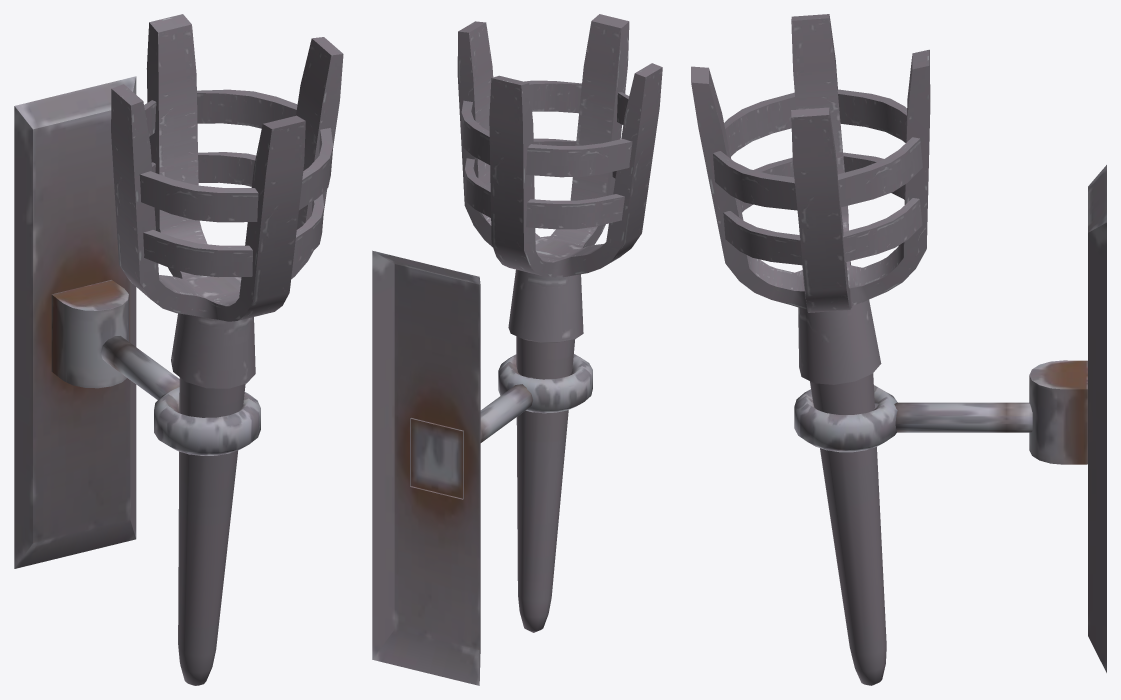
The model's file is Torch_Metal.gltf.
The picture shows the model from 3 angles, left to right: view 1: azimuth 30°, elevation 25°; view 2: azimuth 150°, elevation 25°; view 3: azimuth 270°, elevation 25°; orthographic projection. The views are drawn at different scales.
Visible parts, largest first — view 1: Torch_Metal; view 2: Torch_Metal; view 3: Torch_Metal.
Boxes of the visible parts, x1,y1,x2,y2 form: Torch_Metal: [14, 14, 343, 685]; Torch_Metal: [372, 14, 662, 685]; Torch_Metal: [691, 14, 1106, 685].
Bounding box in the file's own units: 0.2231 × 0.6482 × 0.3884.
Materials: 1 (1 with a texture image).
